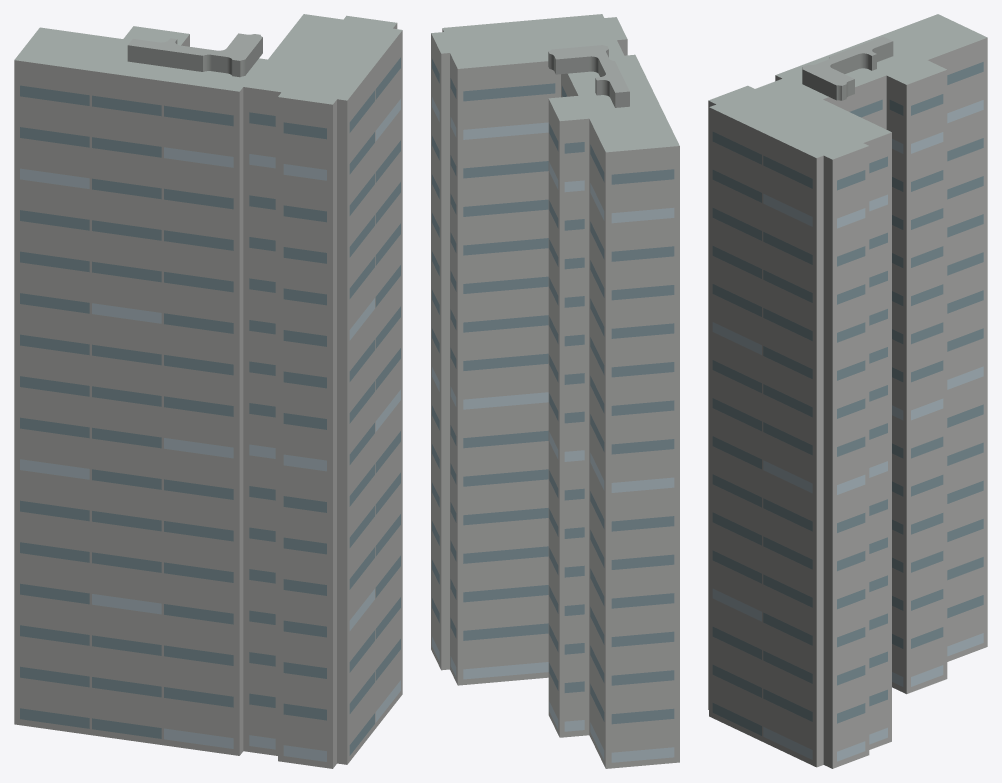
The model's file is fallback-gaepo-xi-presidence-417.glb.
3 views of the same model, side by side, from view 1: azimuth 30°, elevation 25°; view 2: azimuth 150°, elevation 25°; view 3: azimuth 270°, elevation 25° (orthographic). The views are drawn at different scales.
Visible parts, largest first — view 1: fallback-gaepo-xi-presidence-417; view 2: fallback-gaepo-xi-presidence-417; view 3: fallback-gaepo-xi-presidence-417.
Boxes of the visible parts, bbox=[...] form: fallback-gaepo-xi-presidence-417: bbox=[14, 14, 402, 768]; fallback-gaepo-xi-presidence-417: bbox=[431, 14, 679, 768]; fallback-gaepo-xi-presidence-417: bbox=[708, 14, 987, 768].
Bounding box in the file's own units: 50.06 × 100 × 40.59.
